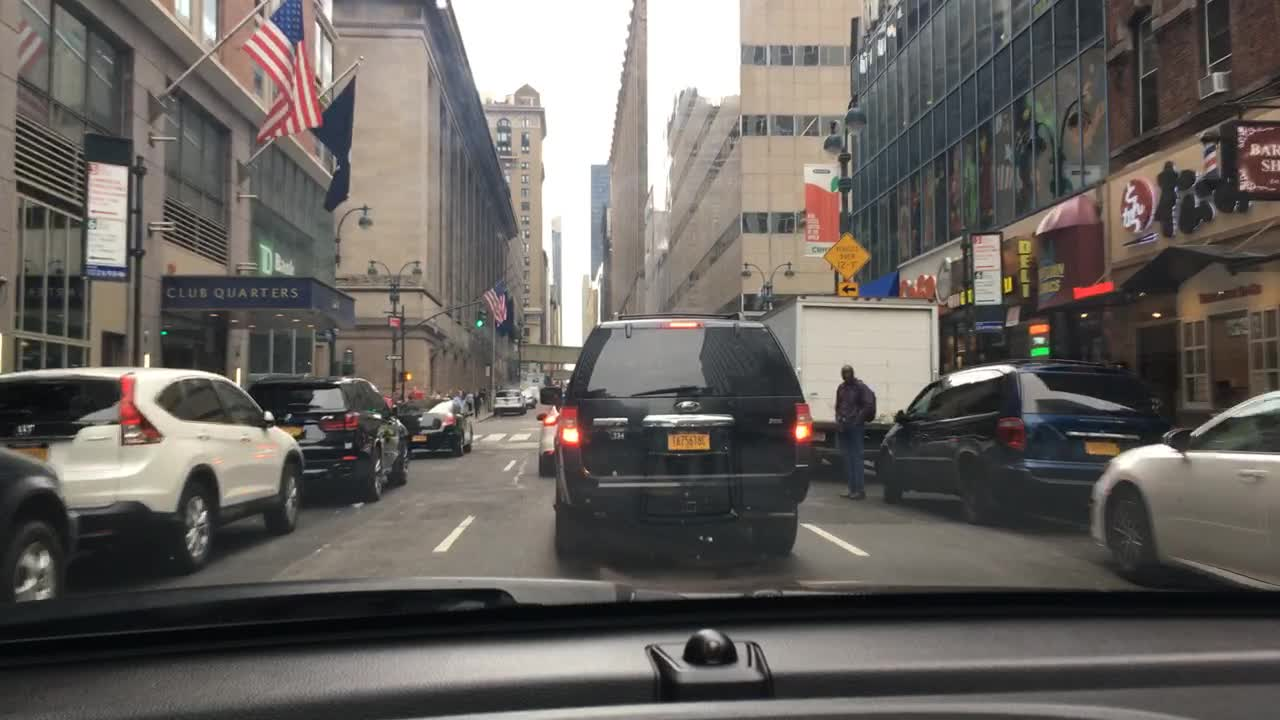car: (555, 309, 823, 564), (0, 362, 309, 572), (874, 355, 1170, 526), (1084, 378, 1279, 604), (240, 372, 411, 501), (0, 439, 80, 622), (383, 394, 479, 456), (532, 388, 571, 476), (490, 388, 527, 415), (516, 388, 538, 409)
person: (831, 363, 882, 503)
traffic light: (471, 301, 488, 330)
traffic sign: (85, 162, 129, 215), (83, 214, 127, 265), (824, 230, 874, 274), (970, 270, 1001, 304), (970, 234, 1000, 269), (832, 280, 865, 300), (382, 313, 406, 329), (384, 352, 404, 361)
truck: (752, 288, 947, 478)
